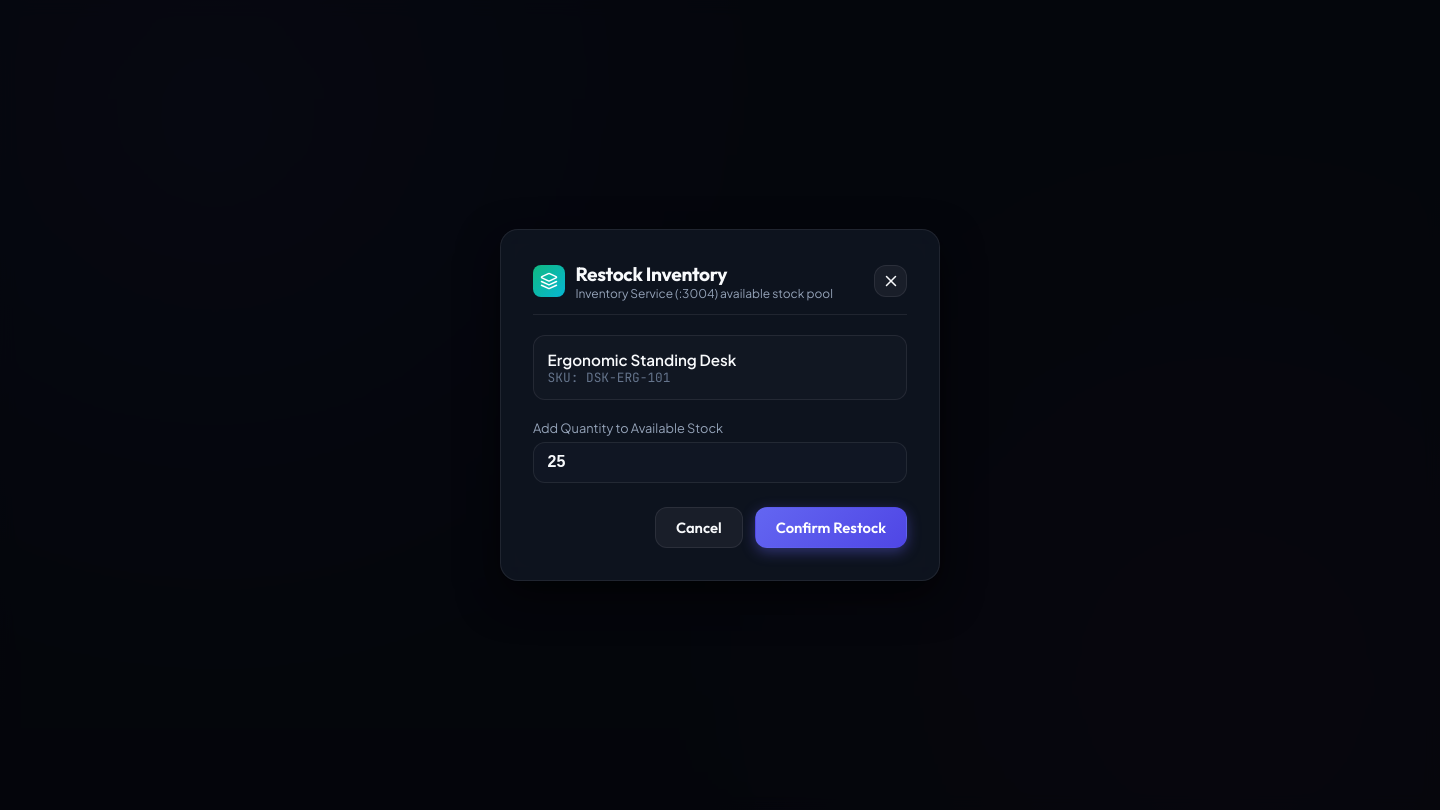
Test: RestockModal Component › should display an error if non-positive quantity is submitted
Replace the text in the number field with "0" at (720, 462), box [533,442,907,483]
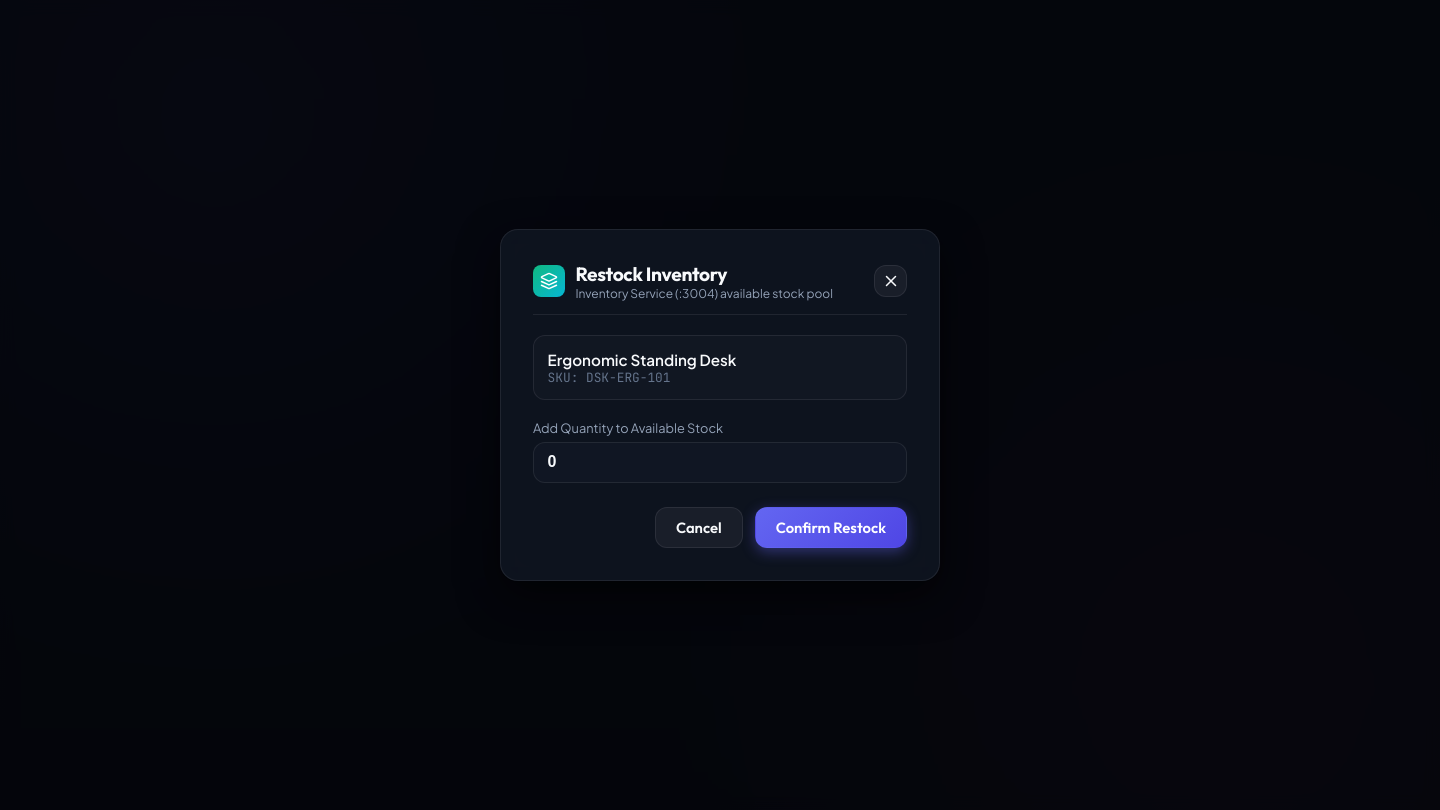
Submit the form, box [533,420,907,548]
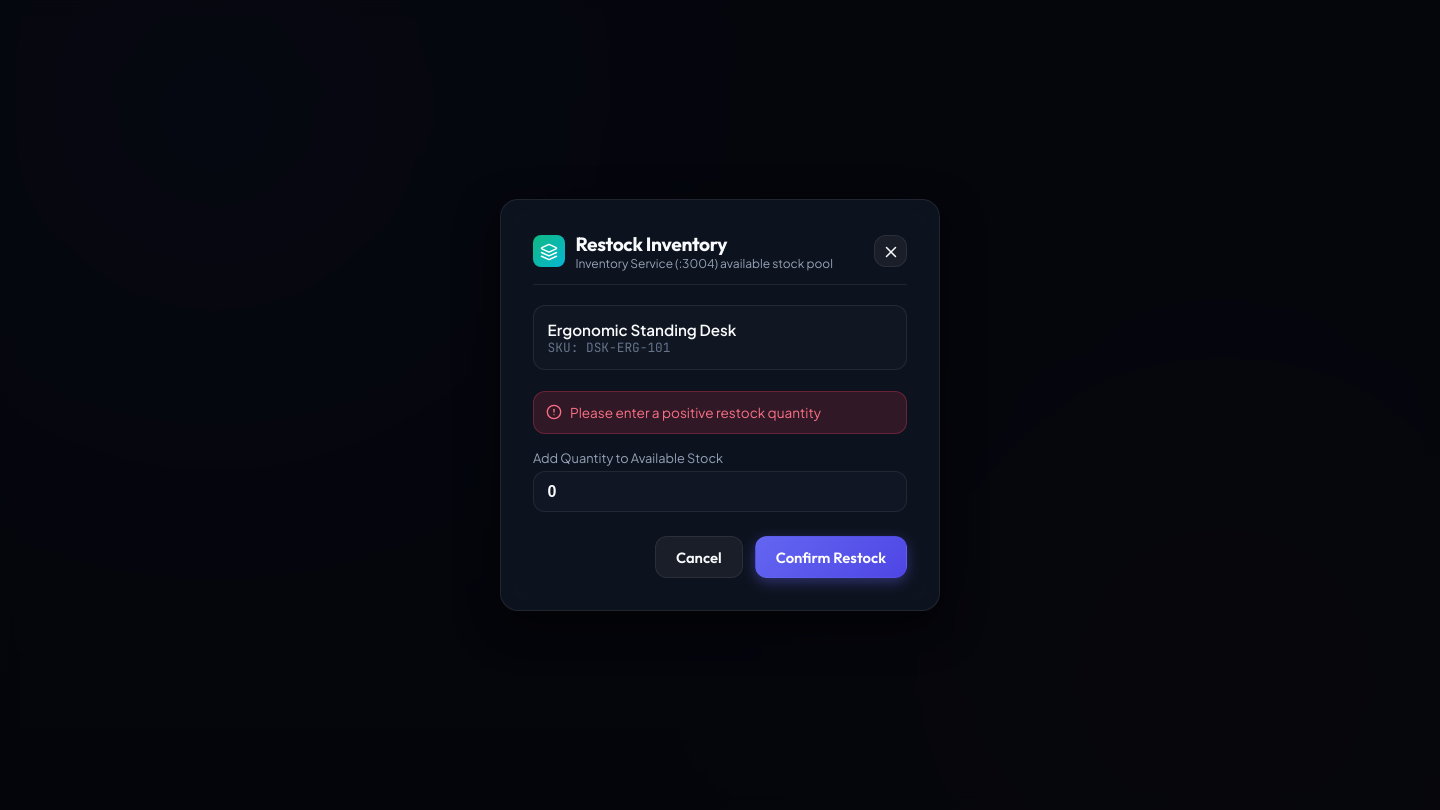
Check: the text "Please enter a positive restock quantity" is shown, box [570,404,821,421]
